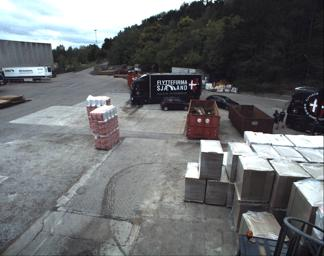rockwool_batts: (91, 105, 119, 149), (85, 94, 109, 118)
